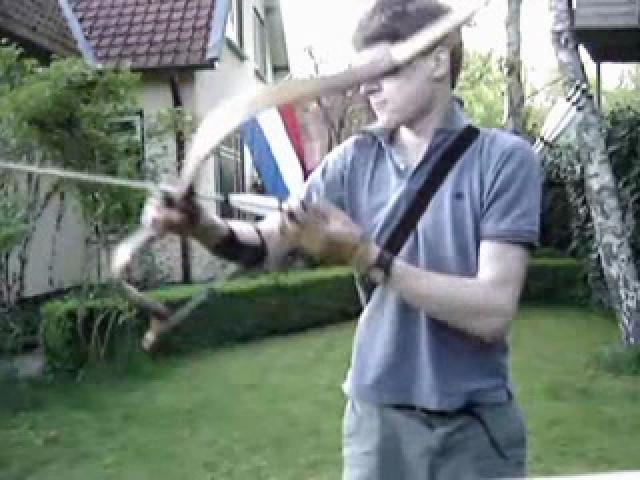P: (131, 0, 549, 480)
